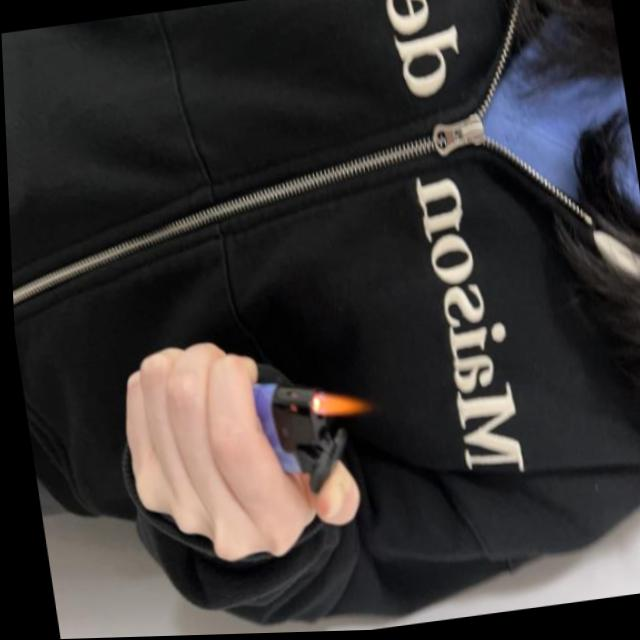Fire: (306, 384, 368, 423)
